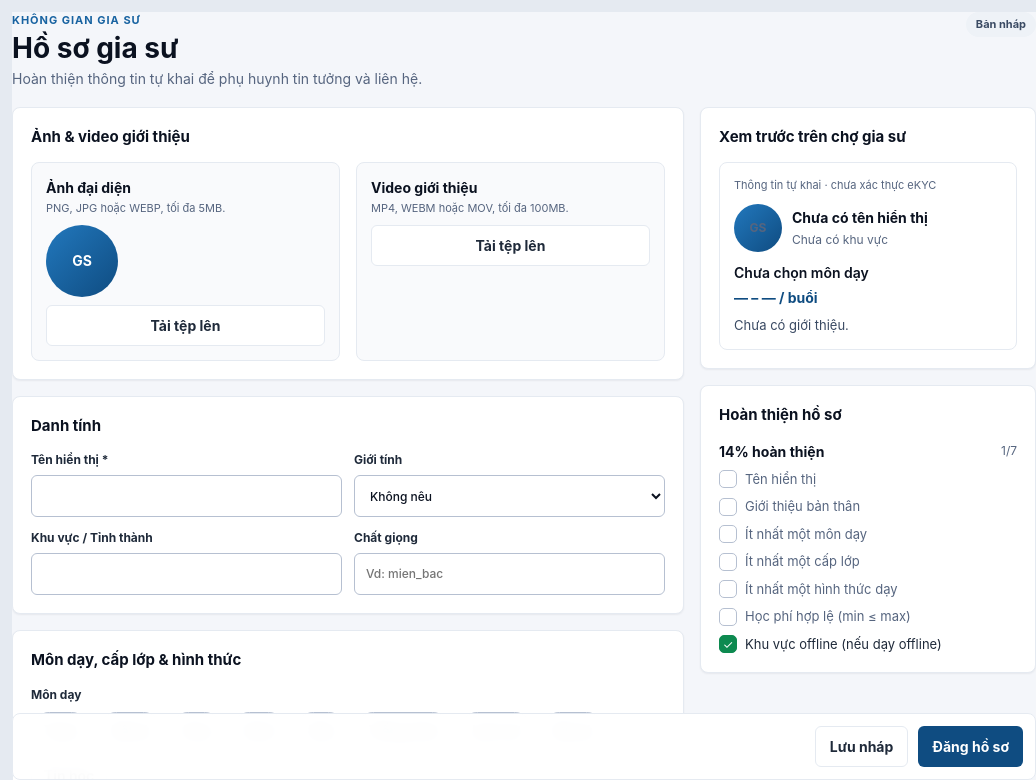
Test: ProfilePage › publishes a complete profile and reflects the published status
Step 1. Type "Cô Linh" into the field labelled "Tên hiển thị *" → (186, 496), box left=31, top=475, right=342, bottom=517
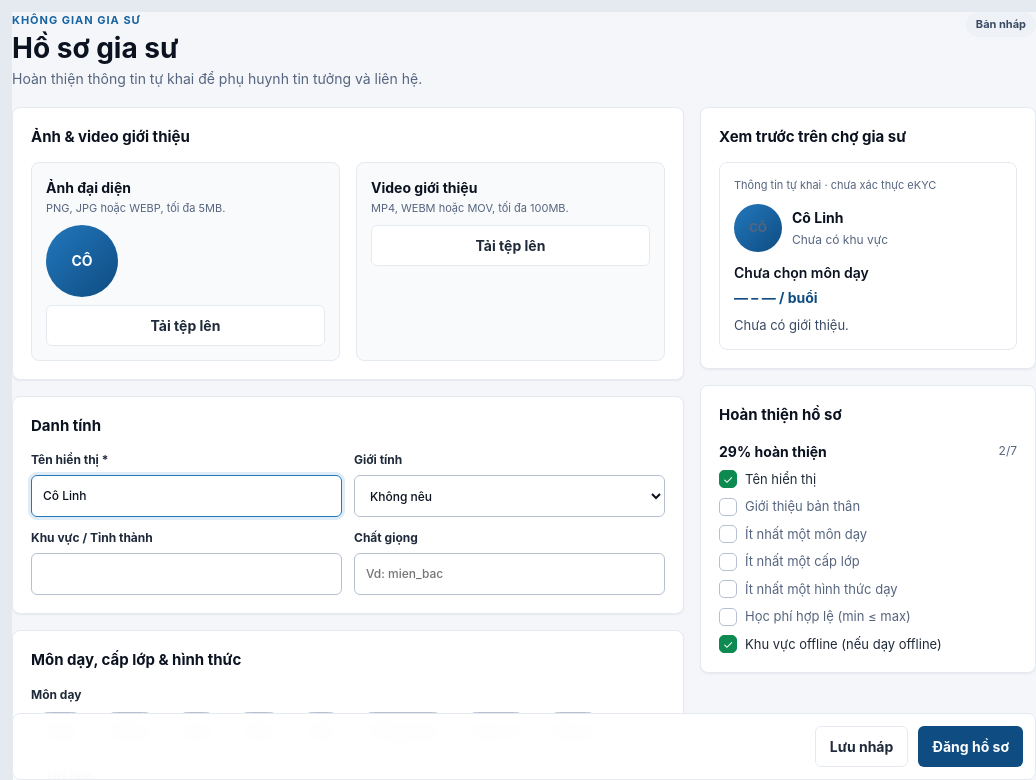
Step 2. Click the button "Đăng hồ sơ" → (971, 746), box left=918, top=726, right=1023, bottom=767
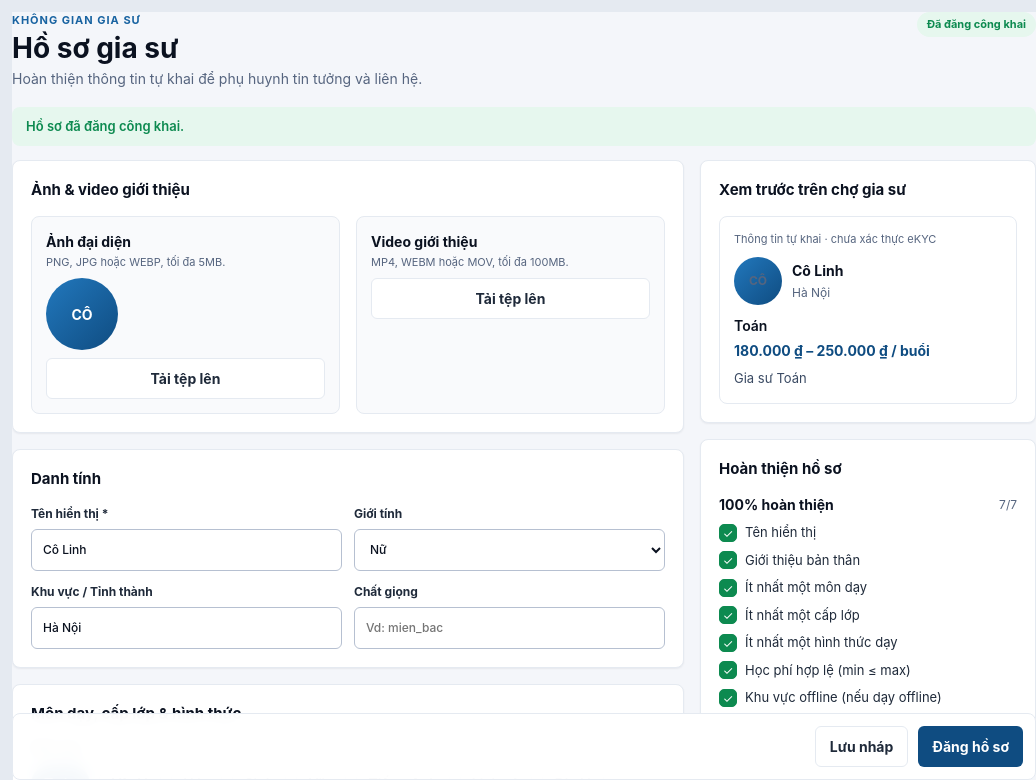
Expected: the text "Hồ sơ đã đăng công khai." is shown, left=12, top=106, right=1035, bottom=146
Expected: the text "Đã đăng công khai" is shown, left=917, top=12, right=1035, bottom=36
